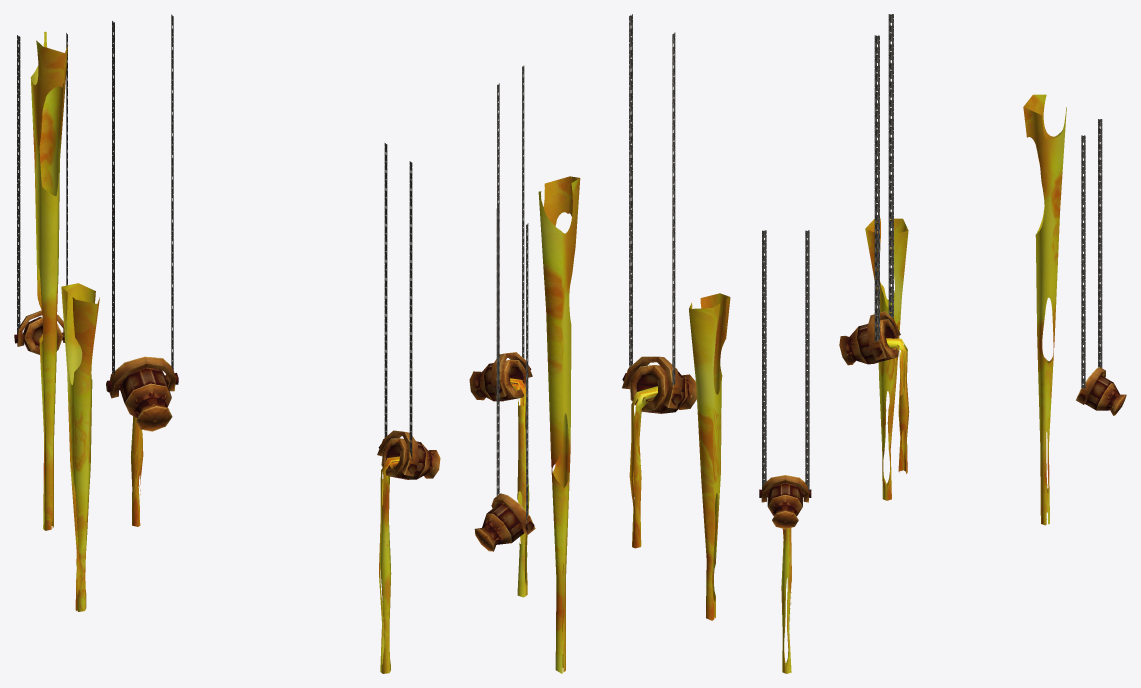
Rendered from lavapots.obj.
3 views of the same model, side by side, from view 1: azimuth 30°, elevation 25°; view 2: azimuth 150°, elevation 25°; view 3: azimuth 270°, elevation 25° (orthographic). The views are drawn at different scales.
Parts seen in each view (by area): view 1: Geoset1, Geoset2, Geoset3, Geoset0; view 2: Geoset1, Geoset2, Geoset3, Geoset0; view 3: Geoset0, Geoset2, Geoset1, Geoset3.
Part boxes in pixels (x1,y1,x2,y2): Geoset1: [61, 283, 399, 673]; Geoset2: [30, 31, 67, 530]; Geoset3: [14, 310, 440, 479]; Geoset0: [17, 14, 412, 459]; Geoset1: [510, 293, 730, 620]; Geoset2: [538, 176, 580, 673]; Geoset3: [469, 352, 696, 551]; Geoset0: [496, 14, 675, 528]; Geoset0: [762, 14, 1102, 490]; Geoset2: [1023, 94, 1066, 525]; Geoset1: [781, 218, 909, 673]; Geoset3: [759, 311, 1126, 529].
Size of the model in its own units: 79.01 by 161 by 94.11.
3 materials, 3 textured.
